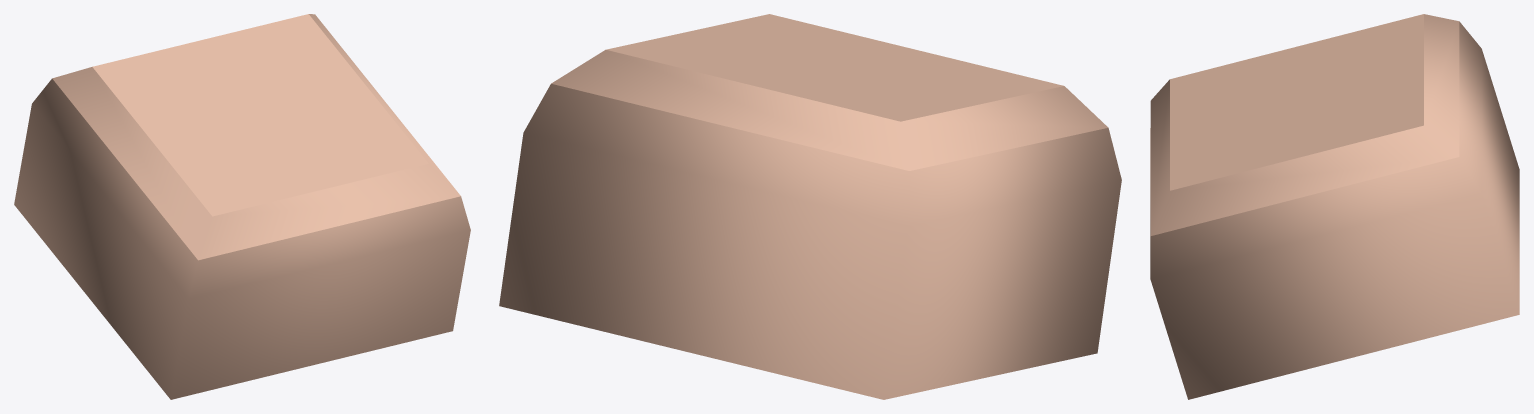
The model's file is Mesh_Buttons.fbx.
3 views of the same model, side by side, from view 1: azimuth 30°, elevation 25°; view 2: azimuth 150°, elevation 25°; view 3: azimuth 270°, elevation 25° (orthographic). The views are drawn at different scales.
Visible parts, largest first — view 1: Bouton_1; view 2: Bouton_1; view 3: Bouton_1.
Boxes of the visible parts, box(x1,y1,x2,y2) form: Bouton_1: box(14, 14, 470, 399); Bouton_1: box(499, 14, 1121, 399); Bouton_1: box(1150, 14, 1519, 399).
Size of the model in its own units: 12.06 by 9.95 by 12.92.
